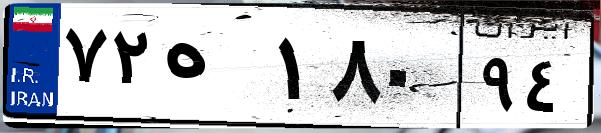0: (385, 28, 445, 110)
1: (270, 28, 330, 110)
2: (110, 28, 158, 98)
4: (525, 38, 570, 115)
7: (57, 26, 110, 100)
8: (330, 28, 385, 110)
9: (475, 38, 525, 113)
ه: (158, 20, 270, 120)
